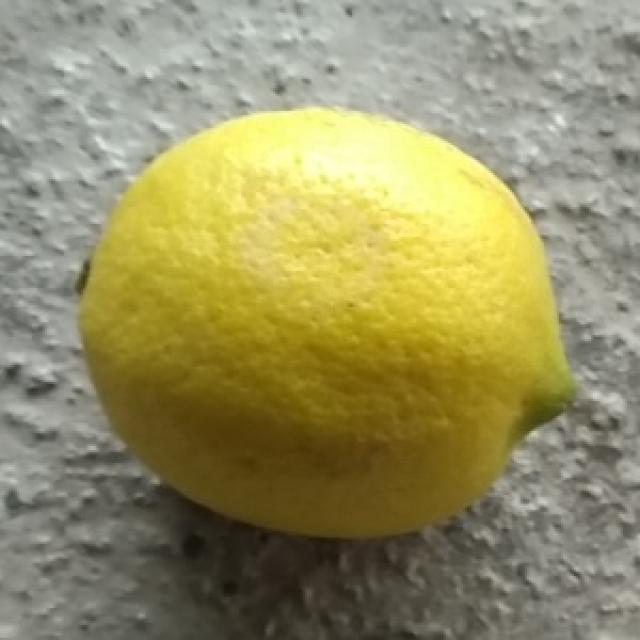Ripe: (71, 103, 581, 544)
